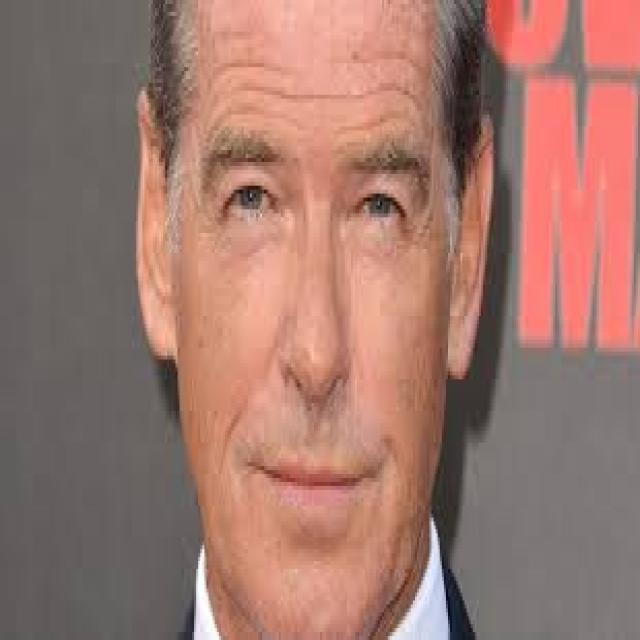normal_face: (151, 0, 496, 640)
